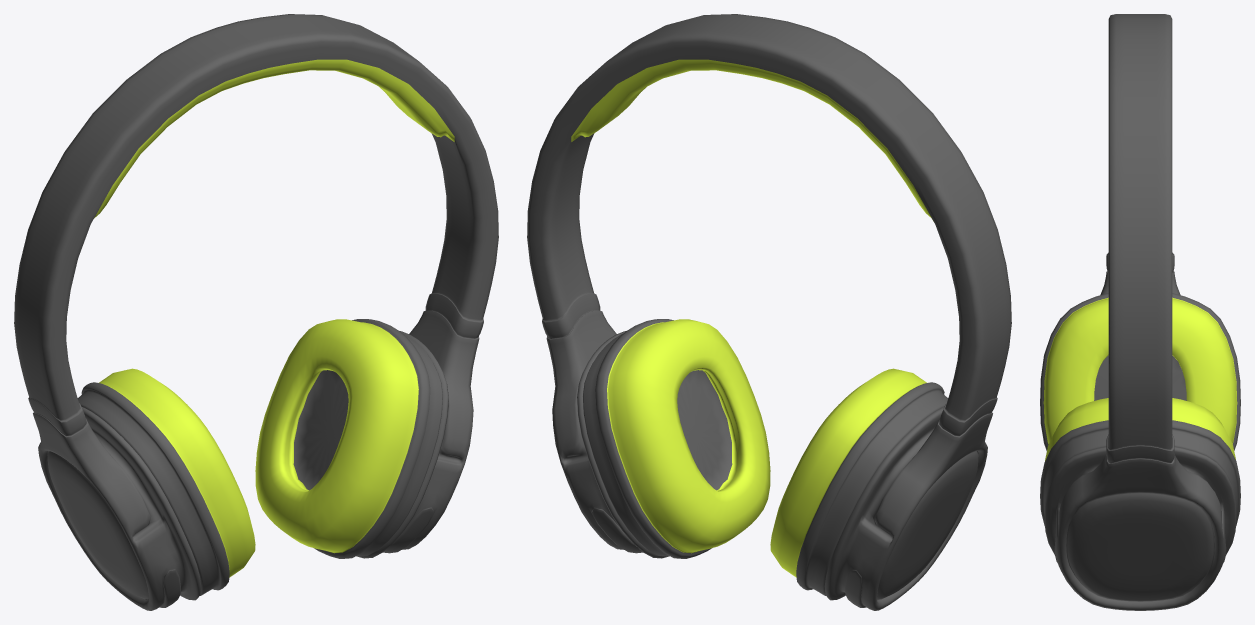
Rendered from uploads_files_3035163_Headphones+FBX.fbx.
3 views of the same model, side by side, from view 1: azimuth 30°, elevation 25°; view 2: azimuth 150°, elevation 25°; view 3: azimuth 270°, elevation 25° (orthographic). The views are drawn at different scales.
Parts seen in each view (by area): view 1: pCylinder3; view 2: pCylinder3; view 3: pCylinder3.
Boxes of the visible parts, x1=… form: pCylinder3: x1=14, y1=14, x2=498, y2=610; pCylinder3: x1=527, y1=14, x2=1011, y2=610; pCylinder3: x1=1040, y1=14, x2=1240, y2=610.
Bounding box in the file's own units: 31.28 × 35.39 × 12.52.
